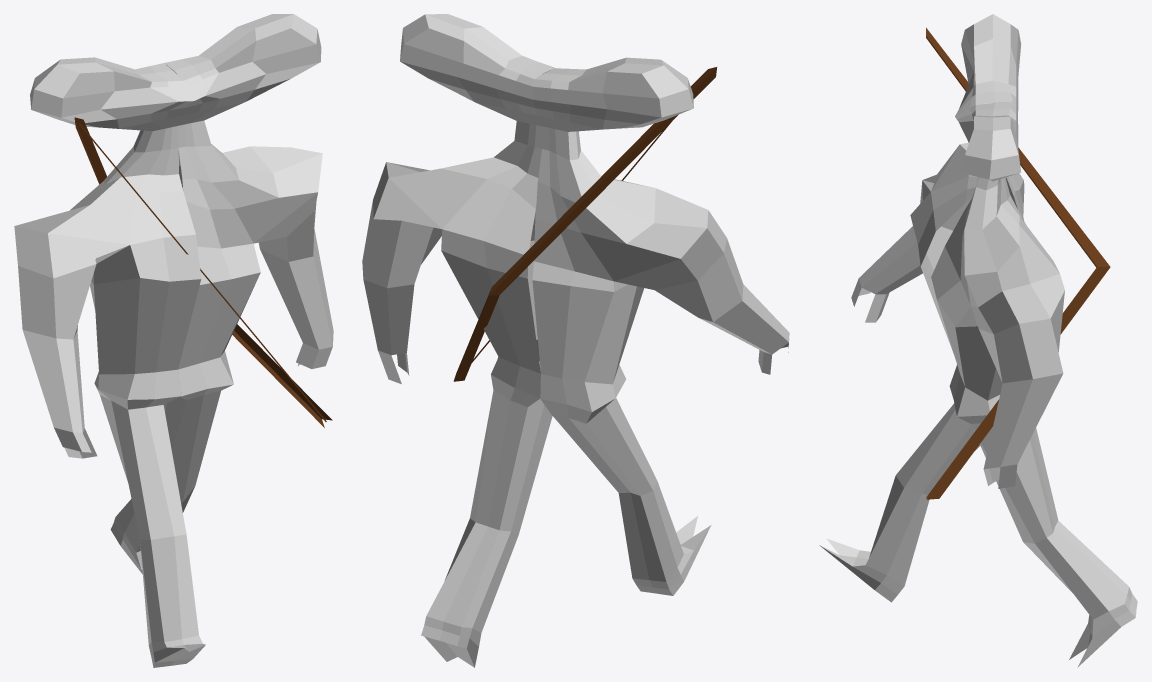
Rendered from Archer3.obj.
3 views of the same model, side by side, from view 1: azimuth 30°, elevation 25°; view 2: azimuth 150°, elevation 25°; view 3: azimuth 270°, elevation 25° (orthographic). The views are drawn at different scales.
Visible parts, largest first — view 1: Cube, Plane.001_Bow; view 2: Cube, Plane.001_Bow; view 3: Cube, Plane.001_Bow.
Boxes of the visible parts, x1,y1,x2,y2 form: Cube: (14,14,333,667); Plane.001_Bow: (74,117,332,427); Cube: (362,14,789,667); Plane.001_Bow: (453,67,716,381); Cube: (819,14,1137,667); Plane.001_Bow: (926,27,1110,499).
Size of the model in its own units: 0.9228 by 1.55 by 0.7766.
